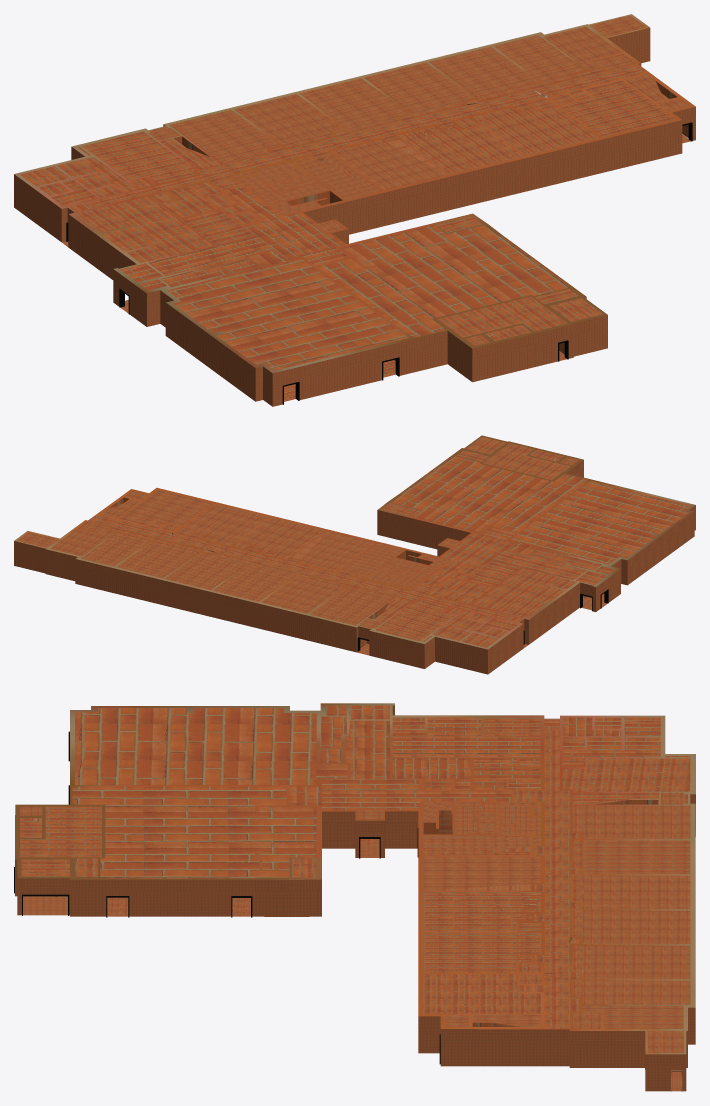
File: FBX School Layout.fbx
3 views of the same model, one above another, from view 1: azimuth 30°, elevation 25°; view 2: azimuth 150°, elevation 25°; view 3: azimuth 270°, elevation 25° (orthographic). The views are drawn at different scales.
Visible parts, largest first — view 1: Cube; view 2: Cube; view 3: Cube.
Part boxes in pixels (x1,y1,x2,y2): Cube: (14, 14, 695, 406); Cube: (14, 435, 695, 674); Cube: (15, 703, 695, 1091).
Size of the model in its own units: 2813 by 138 by 2306.
